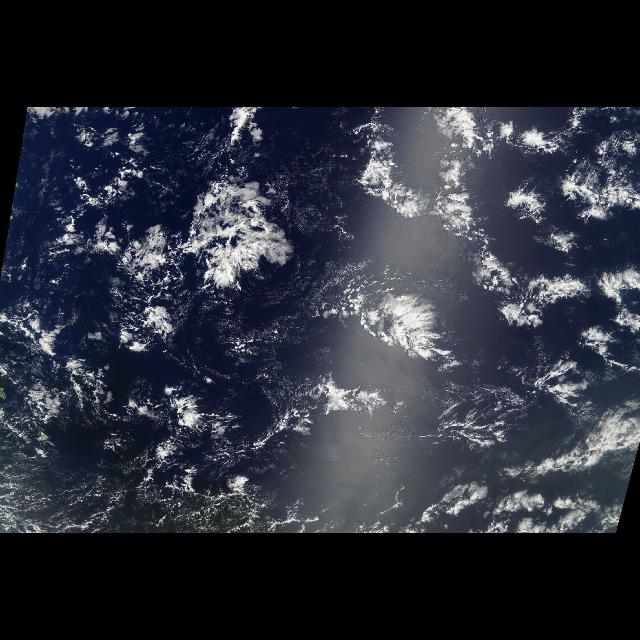Flower: (70, 110, 640, 494)
Gravel: (5, 292, 213, 432), (200, 453, 382, 532)
Sugar: (126, 162, 444, 436), (3, 435, 195, 533)
